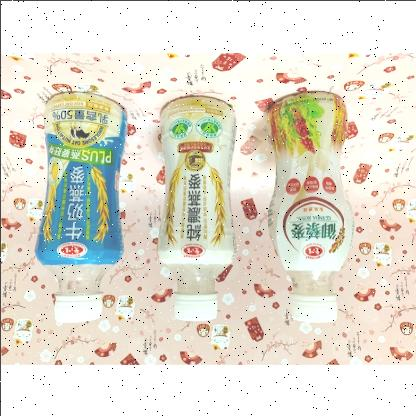Plastic Bottle: (34, 92, 126, 322), (266, 91, 353, 322), (156, 96, 236, 319)
